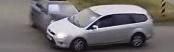car-accident: (25, 1, 156, 51)
